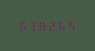eight: (38, 20, 47, 31)
five: (68, 20, 77, 31)
six: (17, 20, 26, 31), (58, 20, 67, 31)
three: (27, 20, 36, 31)
two: (48, 20, 57, 31)
